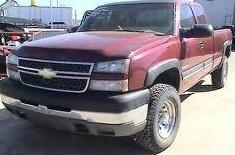front_view: (3, 47, 135, 136)
headlight: (88, 56, 132, 95)
side_glass: (172, 4, 211, 33)
